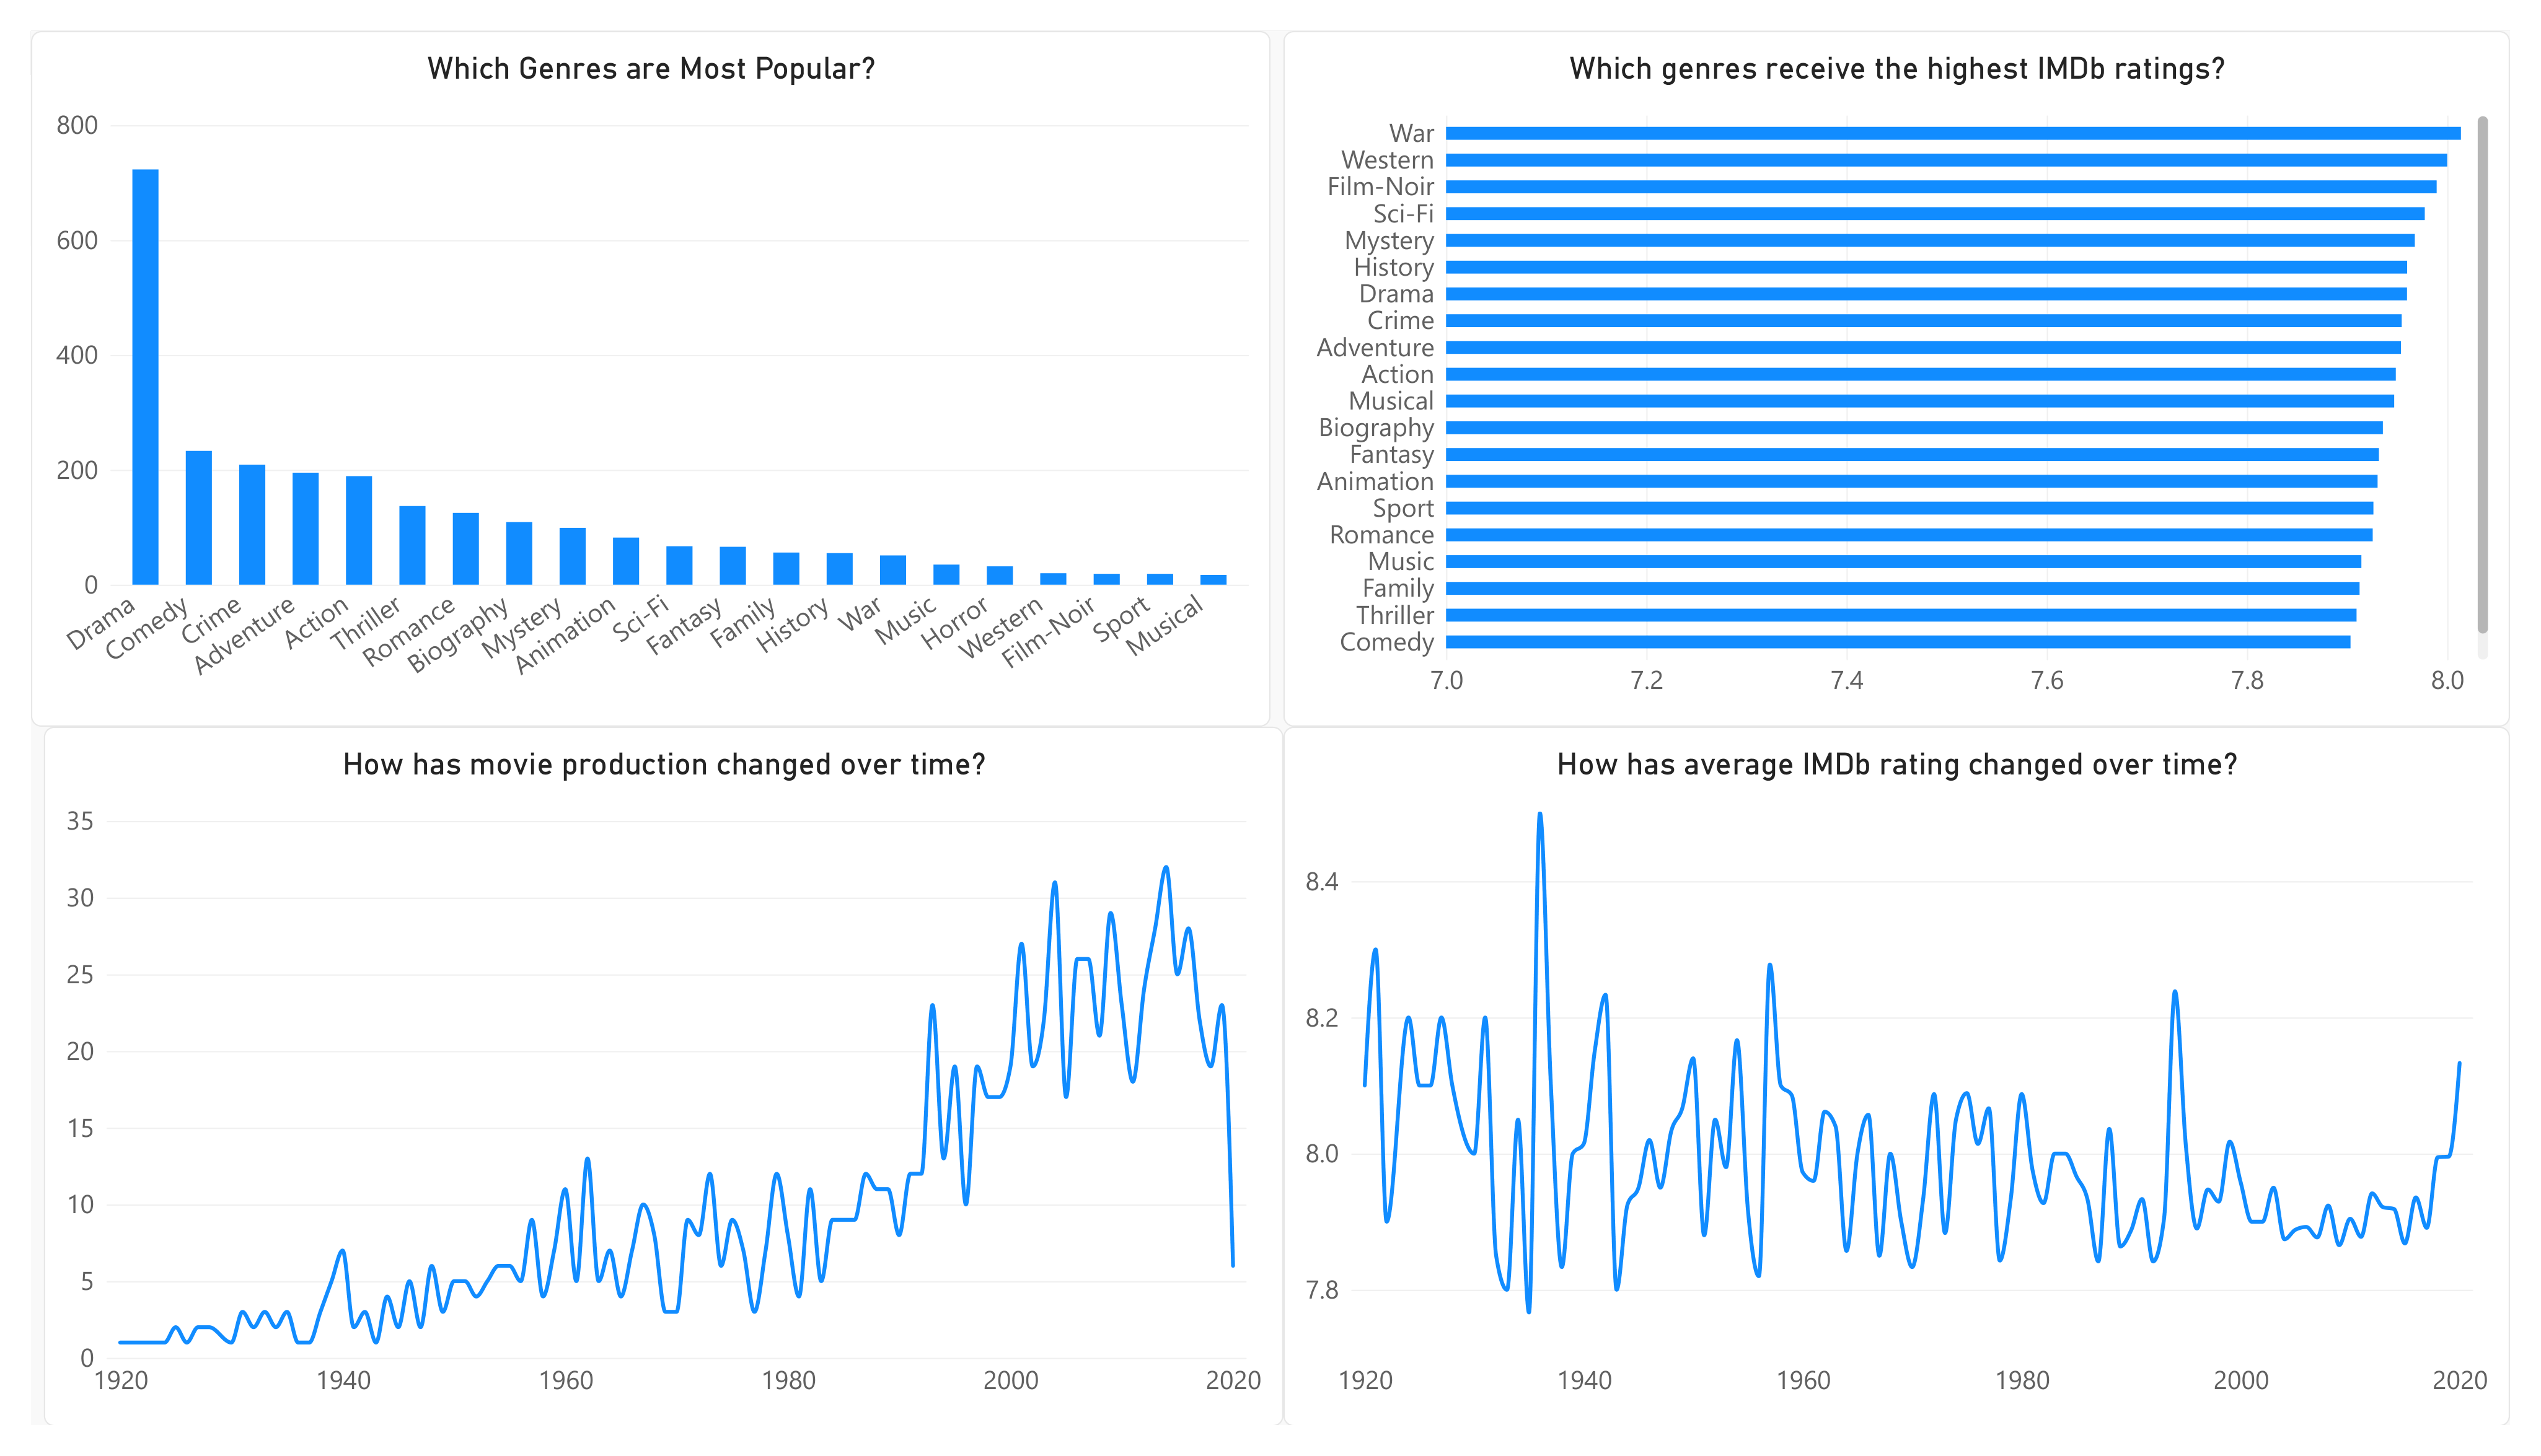

What the dashboard file says about the page in this screenshot:
{"tool":"powerbi","page":{"name":"Genre & Year ","canvas":[1920,1080],"ordinal":0},"visuals":[{"type":"clusteredColumnChart","title":"Which Genres are Most Popular?","fields":{"Category":["Genre.Genre"],"Y":["CountNonNull(imdb_top_1000.MovieID)"]},"box":[0,0,960,539.2],"z":0},{"type":"lineChart","title":"How has average IMDb rating changed over time?","fields":{"Category":["imdb_top_1000.Released_Year"],"Y":["Avg(imdb_top_1000.IMDB_Rating)"]},"box":[970.1,539.2,949.9,541.7],"z":1000},{"type":"lineChart","title":"How has movie production changed over time?","fields":{"Category":["imdb_top_1000.Released_Year"],"Y":["CountNonNull(imdb_top_1000.MovieID)"]},"box":[10.1,539.2,960,541.7],"z":2000},{"type":"clusteredBarChart","title":"Which genres receive the highest IMDb ratings?","fields":{"Category":["Genre.Genre"],"Y":["Avg(imdb_top_1000.IMDB_Rating)"]},"box":[970,0,950,539],"z":3000}]}

Visuals, with their boxes on the page's 1920x1080 design canvas (x1, y1, x2, y2). These are canvas units, not pixel positions in the 2541x1456 screenshot, which may show the page scaled, cropped or inside an application window:
"Which Genres are Most Popular?" clusteredColumnChart: 0,0,960,539
"How has average IMDb rating changed over time?" lineChart: 970,539,1920,1081
"How has movie production changed over time?" lineChart: 10,539,970,1081
"Which genres receive the highest IMDb ratings?" clusteredBarChart: 970,0,1920,539
